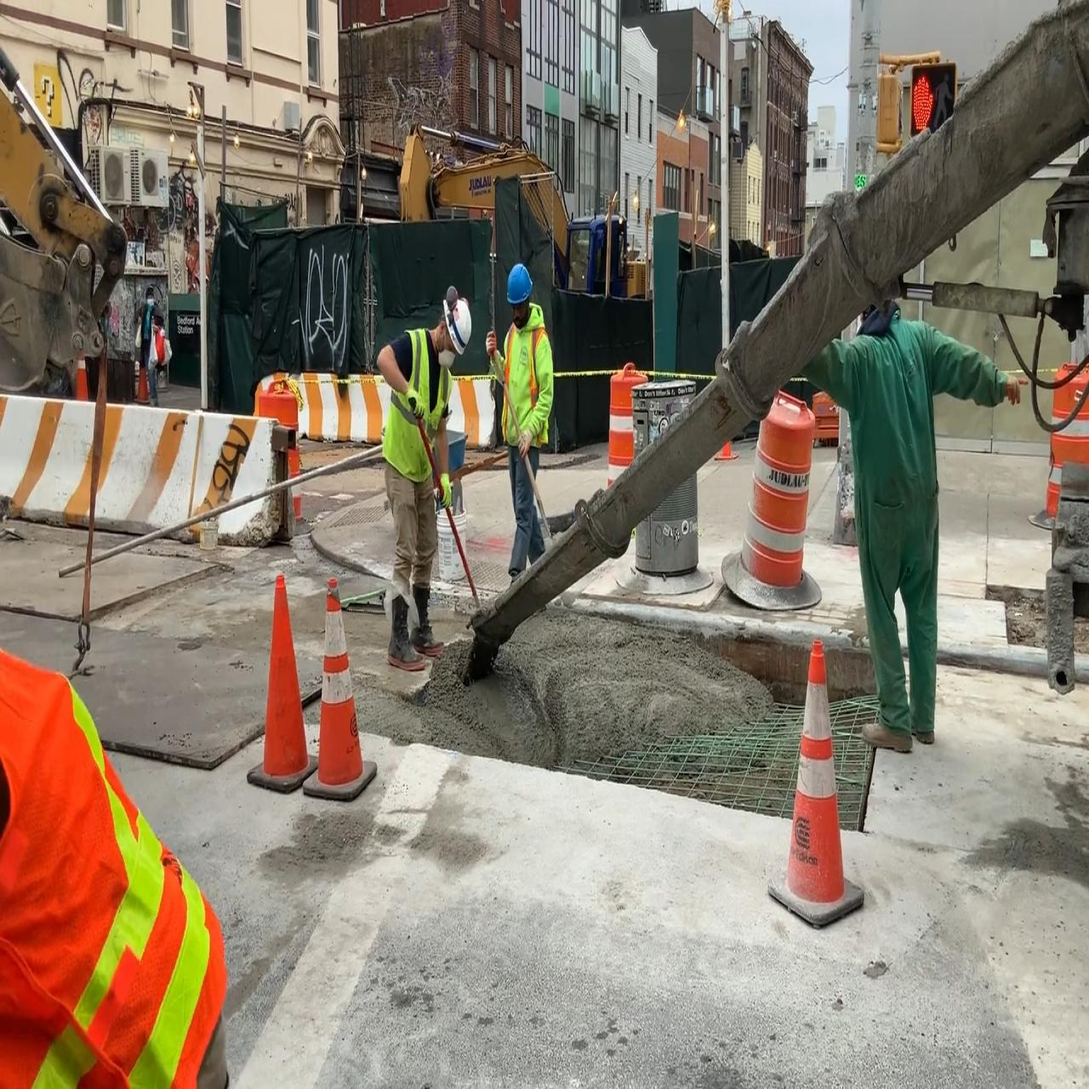NO_Safety_Vest: (847, 321, 939, 524), (140, 306, 159, 352)
Person: (800, 245, 1027, 755), (377, 301, 472, 667), (485, 262, 554, 599), (134, 284, 168, 408)
Safety_Vest: (0, 638, 225, 1088), (381, 326, 454, 483), (503, 314, 549, 450)
